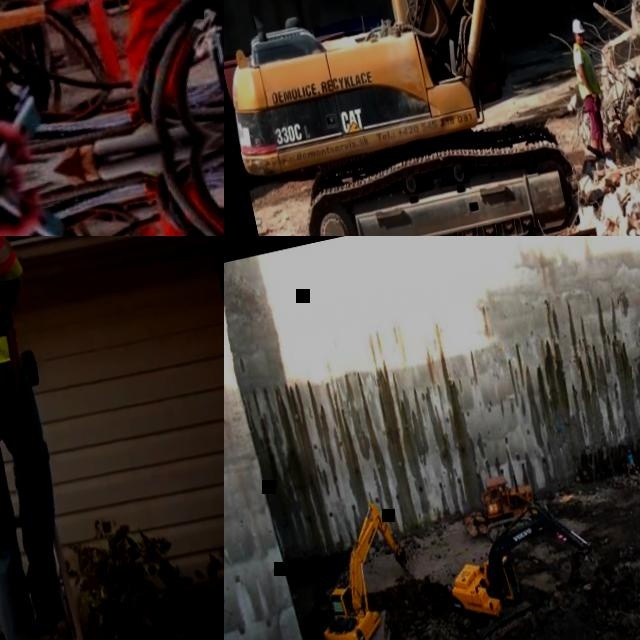Hardhat: (569, 18, 585, 36), (628, 449, 632, 454)
NO-Mask: (576, 36, 584, 46)
Person: (0, 236, 100, 640), (118, 0, 224, 230), (65, 0, 224, 123), (0, 0, 55, 203), (562, 15, 614, 160), (0, 184, 64, 236), (625, 447, 637, 471)
Safety Vest: (570, 47, 599, 99), (627, 455, 634, 466)
machinery: (224, 0, 640, 236), (433, 491, 611, 640), (295, 493, 430, 640), (475, 466, 553, 540)
